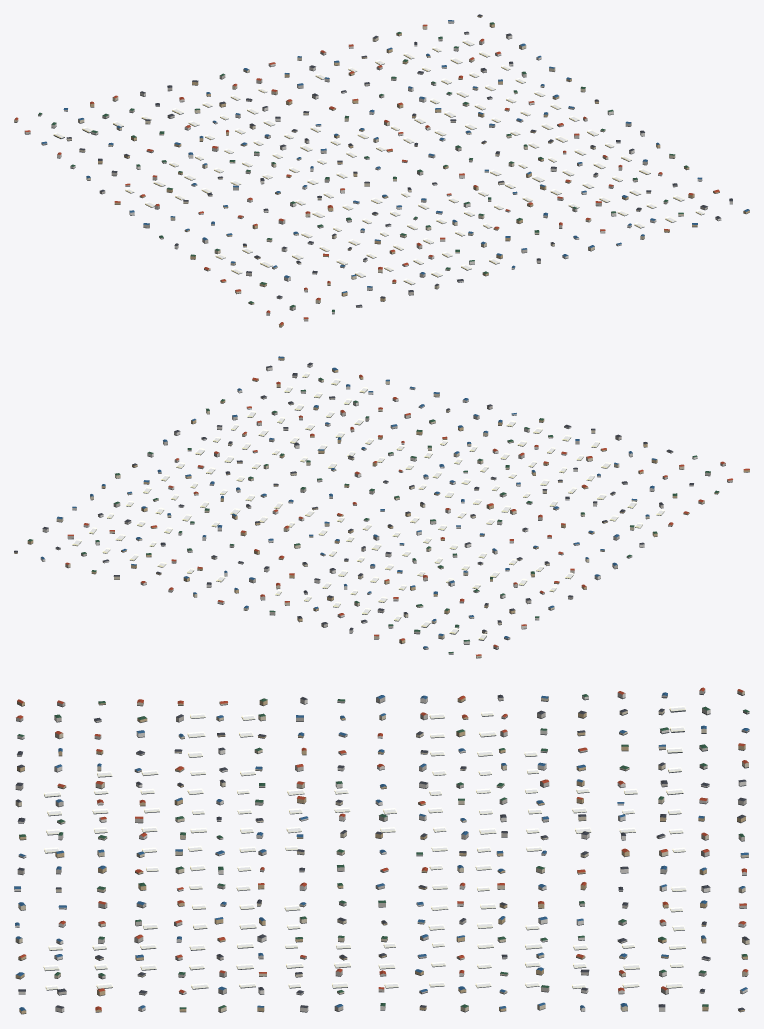
The model's file is buildings_T_E02_S01.glb.
3 views of the same model, one above another, from view 1: azimuth 30°, elevation 25°; view 2: azimuth 150°, elevation 25°; view 3: azimuth 270°, elevation 25° (orthographic). The views are drawn at different scales.
Visible parts, largest first — view 1: T_E02_S01_slope_seating_foundations, T_E02_S01_roofs_agri_greenhouse_arch, T_E02_S01_walls_wall_pastel_sand_gray, T_E02_S01_walls_wall_french_ochre_villa, T_E02_S01_walls_wall_modern_warm_white, T_E02_S01_walls_wall_dalat_cream_stucco, T_E02_S01_roofs_roof_highland_blue_gable, T_E02_S01_roofs_roof_slate_French_villa_hip, T_E02_S01_roofs_roof_terracotta_gable, T_E02_S01_roofs_roof_pine_green_hip; view 2: T_E02_S01_slope_seating_foundations, T_E02_S01_roofs_agri_greenhouse_arch, T_E02_S01_walls_wall_pastel_sand_gray, T_E02_S01_walls_wall_french_ochre_villa, T_E02_S01_walls_wall_modern_warm_white, T_E02_S01_walls_wall_dalat_cream_stucco, T_E02_S01_roofs_roof_highland_blue_gable, T_E02_S01_roofs_roof_slate_French_villa_hip, T_E02_S01_roofs_roof_terracotta_gable, T_E02_S01_roofs_roof_pine_green_hip; view 3: T_E02_S01_slope_seating_foundations, T_E02_S01_roofs_agri_greenhouse_arch, T_E02_S01_walls_wall_pastel_sand_gray, T_E02_S01_walls_wall_french_ochre_villa, T_E02_S01_walls_wall_dalat_cream_stucco, T_E02_S01_walls_wall_modern_warm_white, T_E02_S01_roofs_roof_highland_blue_gable, T_E02_S01_roofs_roof_slate_French_villa_hip, T_E02_S01_roofs_roof_terracotta_gable, T_E02_S01_roofs_roof_pine_green_hip.
Boxes of the visible parts, left/top/right/bottom form: T_E02_S01_slope_seating_foundations: left=14, top=16, right=749, bottom=327; T_E02_S01_roofs_agri_greenhouse_arch: left=53, top=39, right=704, bottom=284; T_E02_S01_walls_wall_pastel_sand_gray: left=24, top=33, right=707, bottom=320; T_E02_S01_walls_wall_french_ochre_villa: left=90, top=15, right=749, bottom=326; T_E02_S01_walls_wall_modern_warm_white: left=51, top=20, right=732, bottom=313; T_E02_S01_walls_wall_dalat_cream_stucco: left=14, top=25, right=683, bottom=303; T_E02_S01_roofs_roof_highland_blue_gable: left=42, top=20, right=749, bottom=293; T_E02_S01_roofs_roof_slate_French_villa_hip: left=66, top=14, right=732, bottom=306; T_E02_S01_roofs_roof_terracotta_gable: left=14, top=24, right=719, bottom=325; T_E02_S01_roofs_roof_pine_green_hip: left=38, top=22, right=688, bottom=311; T_E02_S01_slope_seating_foundations: left=14, top=359, right=749, bottom=658; T_E02_S01_roofs_agri_greenhouse_arch: left=72, top=372, right=664, bottom=639; T_E02_S01_walls_wall_pastel_sand_gray: left=55, top=374, right=732, bottom=654; T_E02_S01_walls_wall_french_ochre_villa: left=14, top=357, right=749, bottom=643; T_E02_S01_walls_wall_modern_warm_white: left=40, top=364, right=697, bottom=644; T_E02_S01_walls_wall_dalat_cream_stucco: left=56, top=379, right=704, bottom=657; T_E02_S01_roofs_roof_highland_blue_gable: left=41, top=356, right=656, bottom=648; T_E02_S01_roofs_roof_slate_French_villa_hip: left=14, top=362, right=693, bottom=631; T_E02_S01_roofs_roof_terracotta_gable: left=65, top=374, right=749, bottom=655; T_E02_S01_roofs_roof_pine_green_hip: left=28, top=377, right=719, bottom=653; T_E02_S01_slope_seating_foundations: left=14, top=692, right=749, bottom=1014; T_E02_S01_roofs_agri_greenhouse_arch: left=43, top=705, right=686, bottom=989; T_E02_S01_walls_wall_pastel_sand_gray: left=15, top=689, right=749, bottom=1011; T_E02_S01_walls_wall_french_ochre_villa: left=15, top=697, right=747, bottom=1013; T_E02_S01_walls_wall_dalat_cream_stucco: left=15, top=690, right=749, bottom=1012; T_E02_S01_walls_wall_modern_warm_white: left=14, top=693, right=747, bottom=1012; T_E02_S01_roofs_roof_highland_blue_gable: left=14, top=692, right=749, bottom=1011; T_E02_S01_roofs_roof_slate_French_villa_hip: left=15, top=694, right=749, bottom=1010; T_E02_S01_roofs_roof_terracotta_gable: left=16, top=687, right=748, bottom=1010; T_E02_S01_roofs_roof_pine_green_hip: left=17, top=694, right=749, bottom=1009.
Bounding box in the file's own units: 1725 × 44.51 × 1721.
